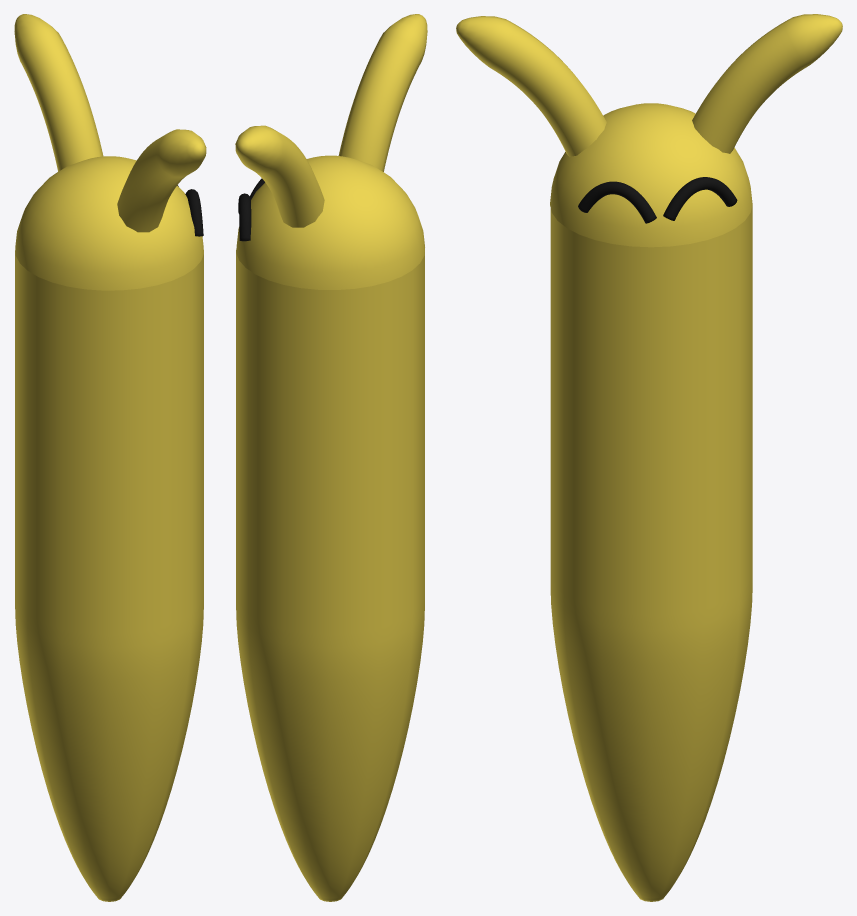
File: paps_corps.fbx
The picture shows the model from 3 angles, left to right: view 1: azimuth 30°, elevation 25°; view 2: azimuth 150°, elevation 25°; view 3: azimuth 270°, elevation 25°; orthographic projection. The views are drawn at different scales.
Visible parts, largest first — view 1: NurbsPath, NurbsPath.001; view 2: NurbsPath, NurbsPath.002; view 3: NurbsPath, NurbsPath.001, NurbsPath.002.
Boxes of the visible parts, box(x1,y1,x2,y2) form: NurbsPath: box(14, 14, 206, 901); NurbsPath.001: box(185, 189, 203, 236); NurbsPath: box(235, 14, 427, 901); NurbsPath.002: box(238, 193, 251, 241); NurbsPath: box(456, 14, 842, 901); NurbsPath.001: box(578, 181, 656, 223); NurbsPath.002: box(663, 177, 737, 220).
Size of the model in its own units: 81.15 by 384 by 153.
